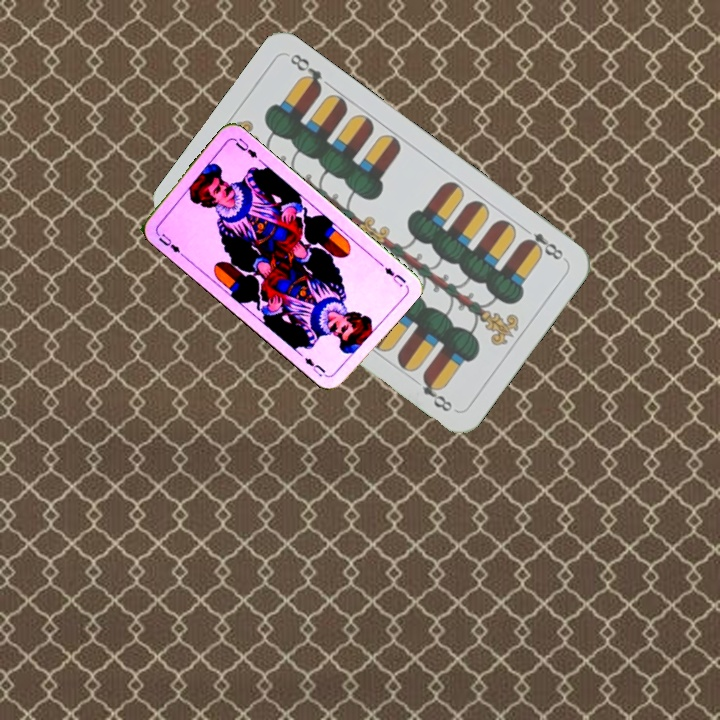E8: (518, 222, 566, 263)
EU: (154, 229, 186, 258), (380, 263, 409, 290)
